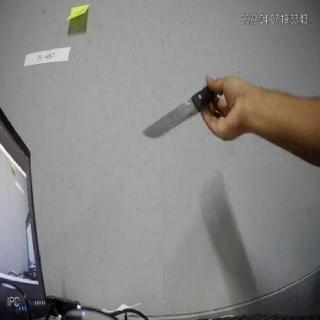knife: (134, 74, 226, 144)
